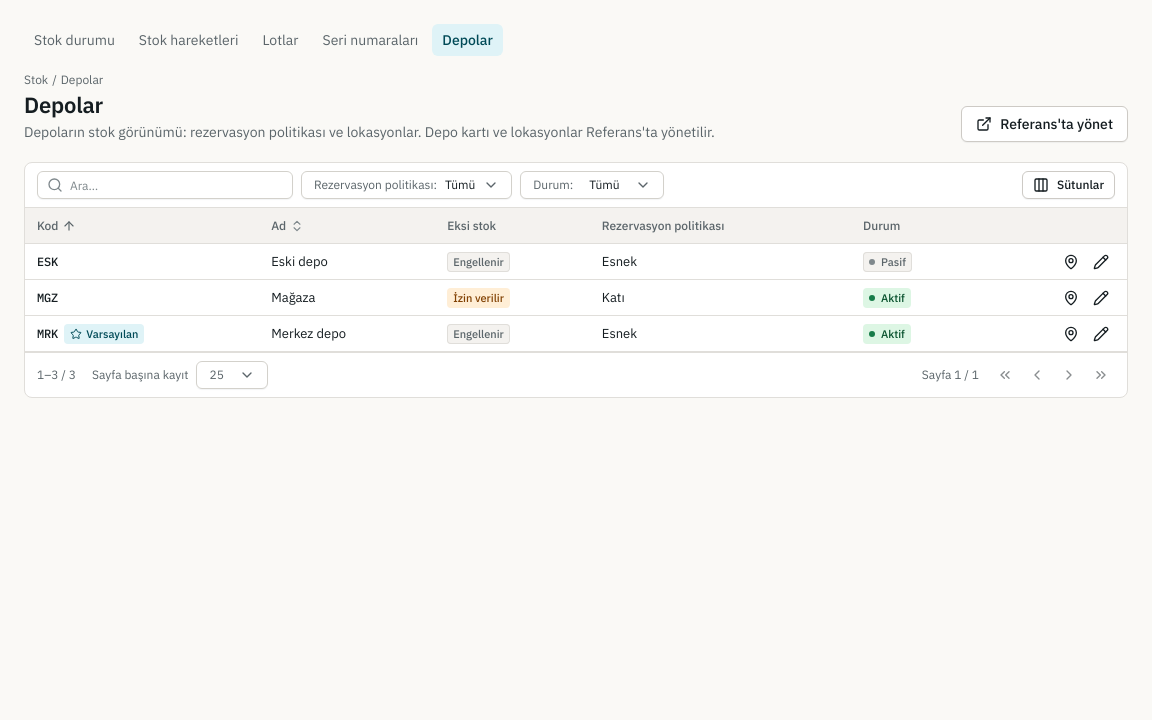
it: warehouses page › changes the reservation policy with the settings version
The image size is (1152, 720).
Step 1. Click the button named "MGZ rezervasyon politikasını değiştir" → (1101, 298), box [1087, 284, 1115, 312]
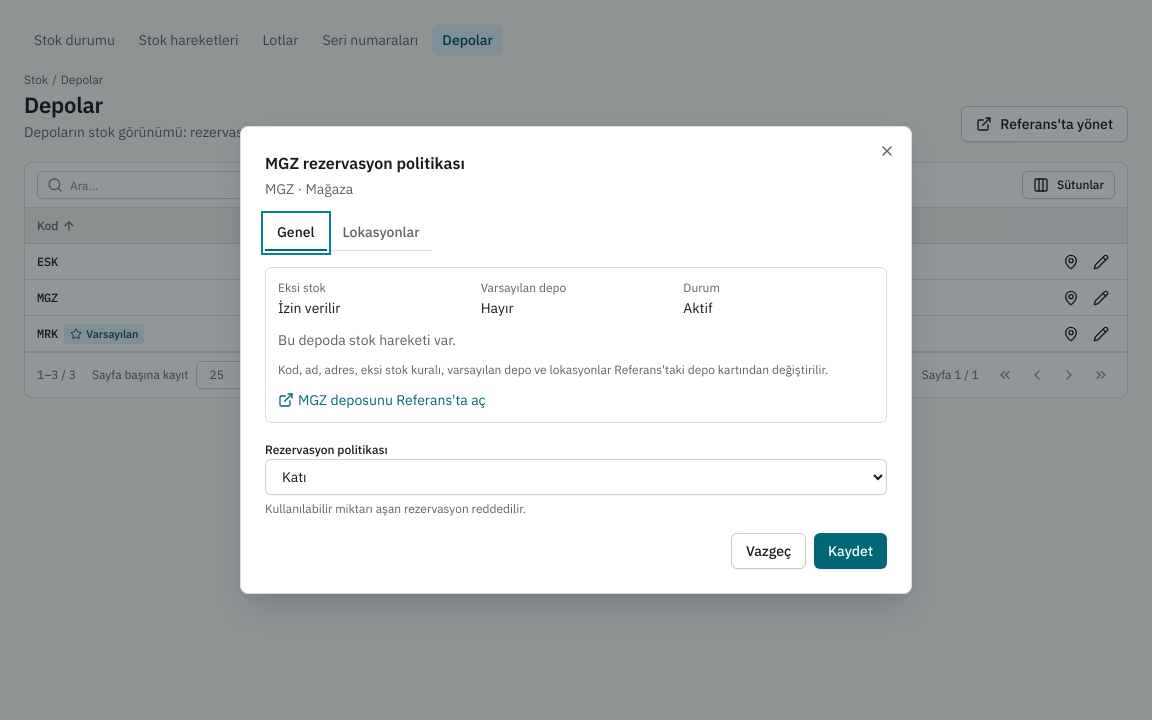
Now the text "Bu depoda stok hareketi var." is shown, box [278, 331, 456, 349]
Step 2. Select "Yok" in the dropdown labelled "Rezervasyon politikası" → (576, 477), box [265, 459, 887, 495]
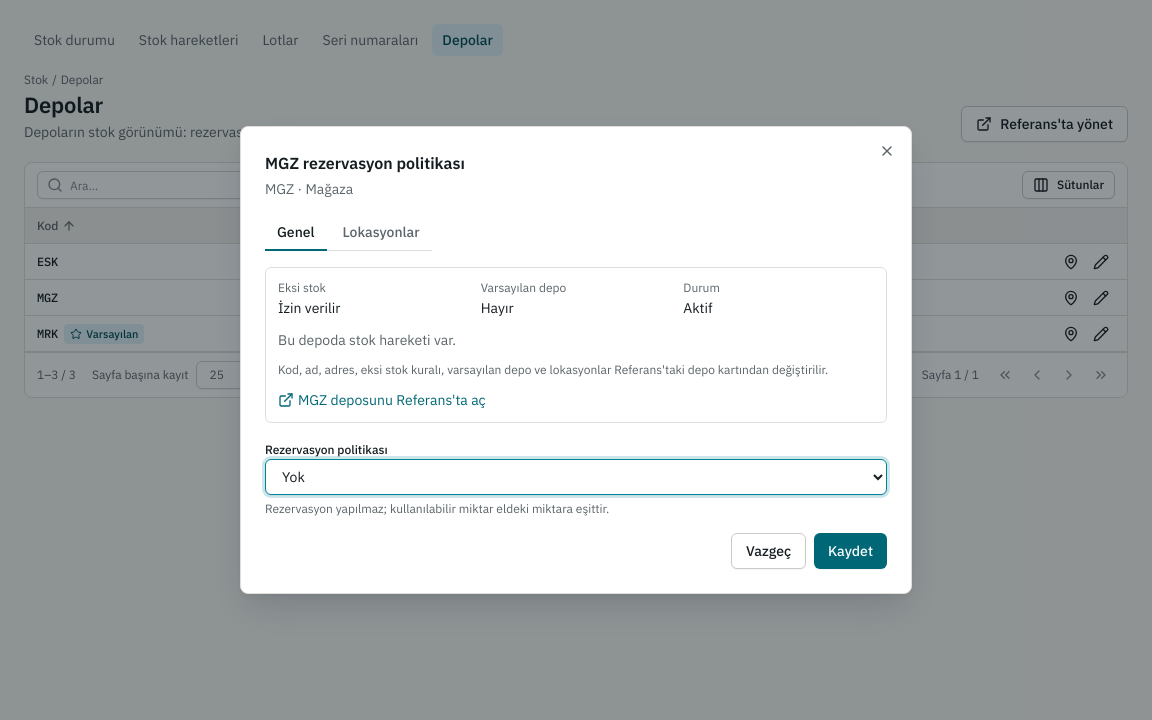
Now the text "Rezervasyon yapılmaz; kullanılabilir miktar eldeki miktara eşittir." is shown, box [265, 501, 609, 516]
Step 3. Click the button "Kaydet" → (851, 551), box [814, 533, 887, 569]
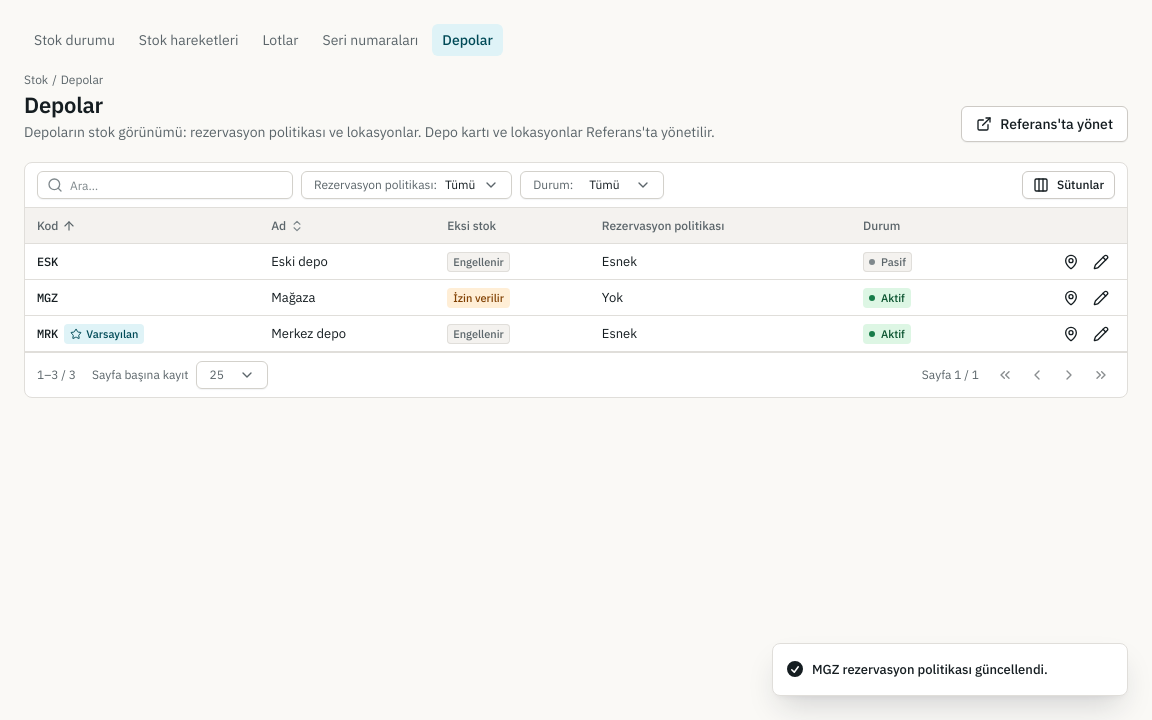
Now the dialog is gone
